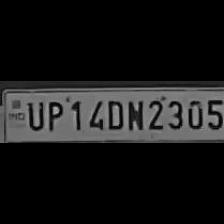0: (184, 96, 204, 130)
1: (64, 97, 84, 132)
2: (144, 97, 164, 131)
3: (164, 96, 184, 130)
4: (85, 96, 105, 132)
5: (204, 96, 222, 130)
D: (104, 96, 124, 130)
N: (124, 97, 144, 131)
P: (44, 97, 64, 132)
U: (24, 98, 44, 132)
